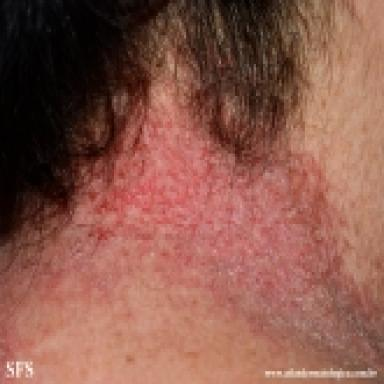Darier_s-Disease: (30, 93, 381, 367)
